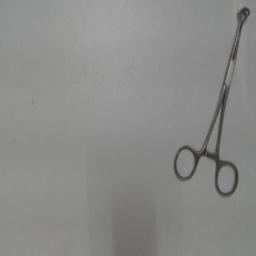Babcock Tissue Forceps: (170, 4, 252, 202)
